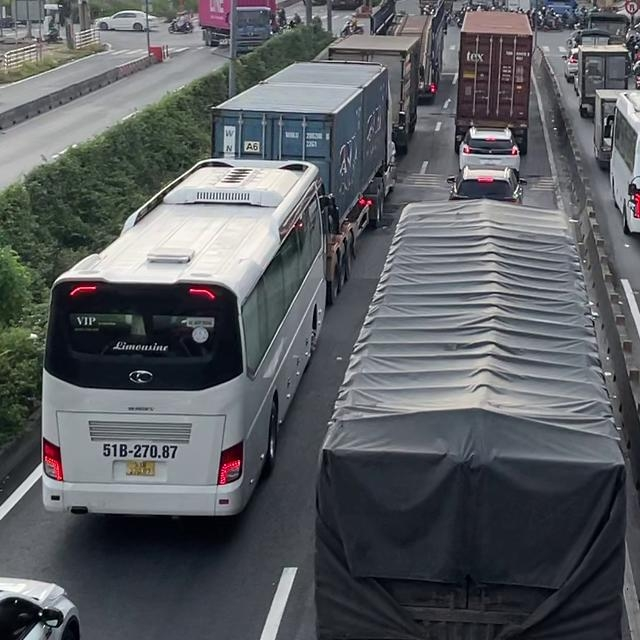bus: (40, 156, 328, 518), (609, 89, 639, 235), (197, 0, 231, 46)
car: (0, 576, 81, 639), (446, 164, 527, 203), (458, 125, 520, 175), (93, 9, 159, 31), (562, 47, 578, 82)
motorcycle: (168, 16, 193, 34), (339, 19, 363, 37)
truck: (313, 198, 638, 639), (209, 59, 397, 303), (310, 33, 420, 153), (453, 10, 534, 155), (387, 1, 447, 103), (573, 37, 632, 118), (197, 0, 276, 51), (592, 88, 636, 169), (586, 11, 630, 44)
